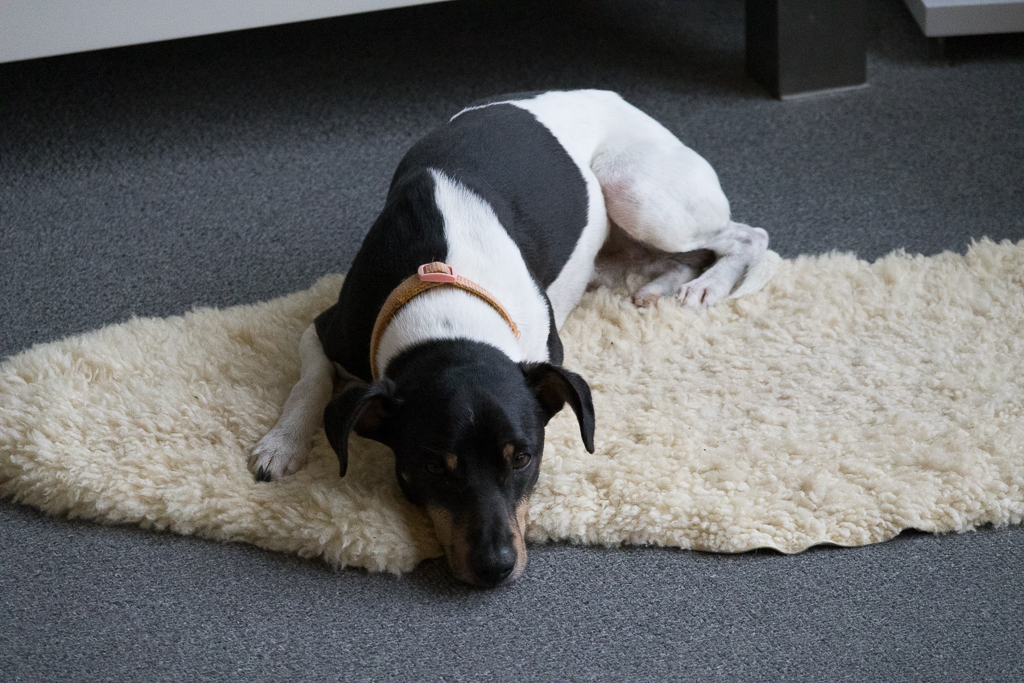Dog: (239, 77, 795, 604)
